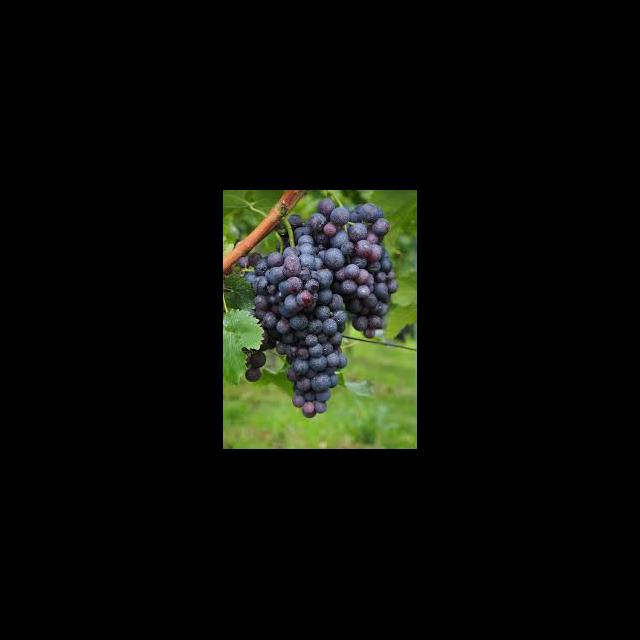grape: (237, 198, 398, 418)
